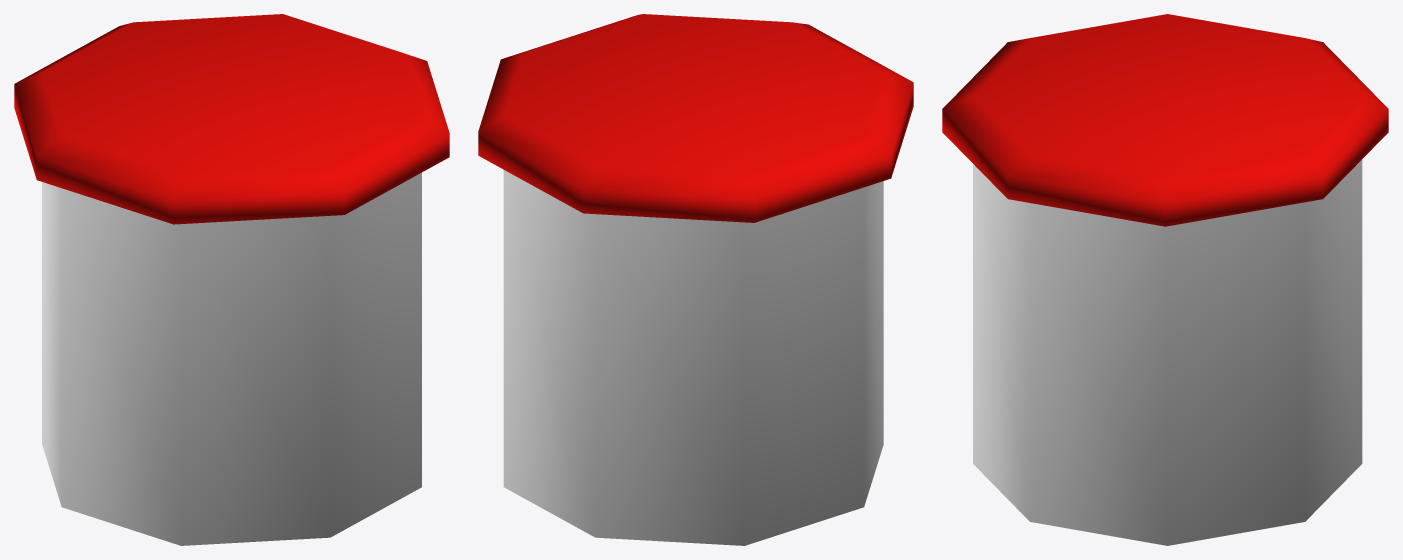
Rendered from jar.fbx.
The picture shows the model from 3 angles, left to right: view 1: azimuth 30°, elevation 25°; view 2: azimuth 150°, elevation 25°; view 3: azimuth 270°, elevation 25°; orthographic projection.
Visible parts, largest first — view 1: Cylinder.005; view 2: Cylinder.005; view 3: Cylinder.005.
Boxes of the visible parts, x1,y1,x2,y2 form: Cylinder.005: (14, 14, 449, 545); Cylinder.005: (478, 14, 913, 545); Cylinder.005: (942, 14, 1388, 545).
Size of the model in its own units: 229 by 229 by 208.
